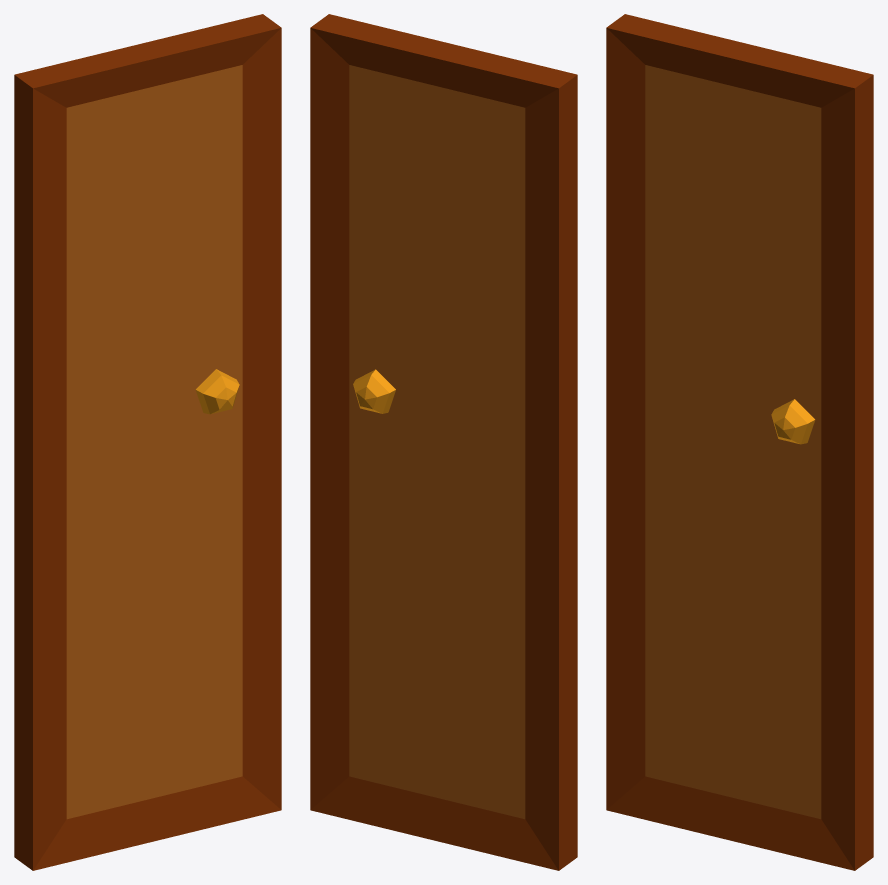
The model's file is door.glb.
3 views of the same model, side by side, from view 1: azimuth 30°, elevation 25°; view 2: azimuth 150°, elevation 25°; view 3: azimuth 330°, elevation 25° (orthographic).
Parts seen in each view (by area): view 1: door; view 2: door; view 3: door.
Boxes of the visible parts, x1=… form: door: x1=14, y1=14, x2=281, y2=870; door: x1=310, y1=14, x2=577, y2=870; door: x1=606, y1=14, x2=873, y2=870.
Bounding box in the file's own units: 1 × 3.01 × 0.25.
